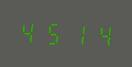five: (41, 19, 63, 46)
four: (18, 18, 40, 46), (87, 20, 109, 48)
one: (64, 19, 86, 47)
